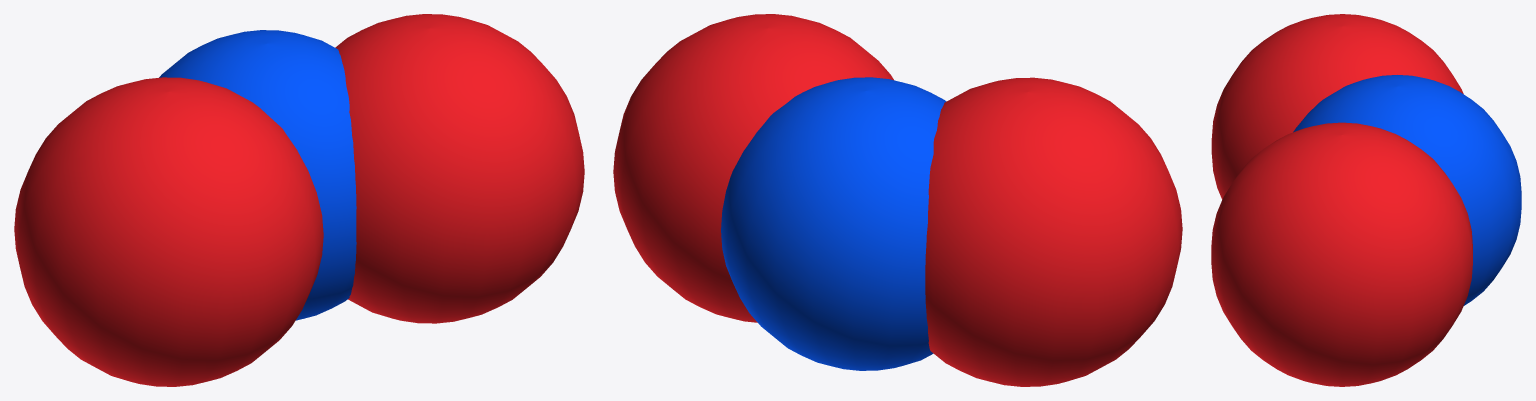
The picture shows the model from 3 angles, left to right: view 1: azimuth 30°, elevation 25°; view 2: azimuth 150°, elevation 25°; view 3: azimuth 270°, elevation 25°; orthographic projection. The views are drawn at different scales.
Visible parts, largest first — view 1: Сферы_Node (×3); view 2: Сферы_Node (×3); view 3: Сферы_Node (×3).
Boxes of the visible parts, x1,y1,x2,y2 form: Сферы_Node (×3): (14,14,584,386); Сферы_Node (×3): (613,14,1182,386); Сферы_Node (×3): (1211,14,1521,386).
Bounding box in the file's own units: 3.12 × 1.58 × 1.85.
Materials: 2 (2 with a texture image).
